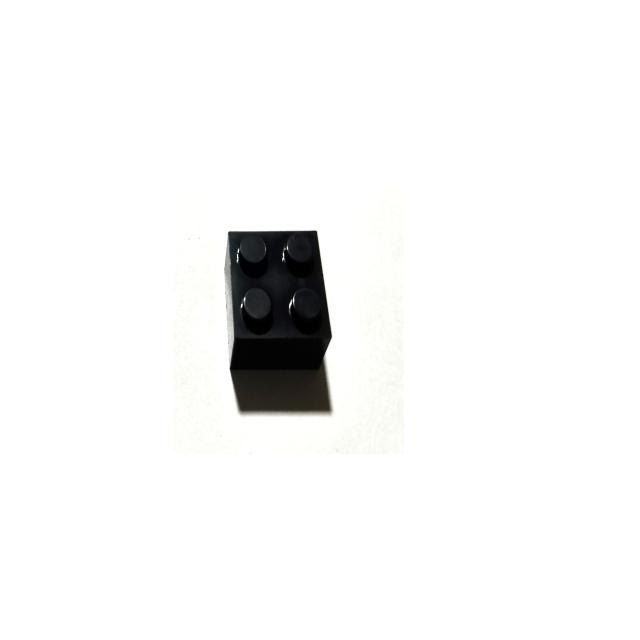Black_Small: (225, 231, 331, 372)
